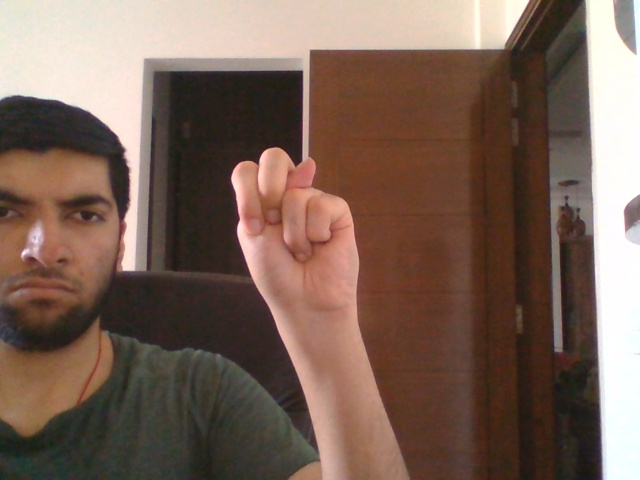LetterN: (229, 145, 360, 317)
